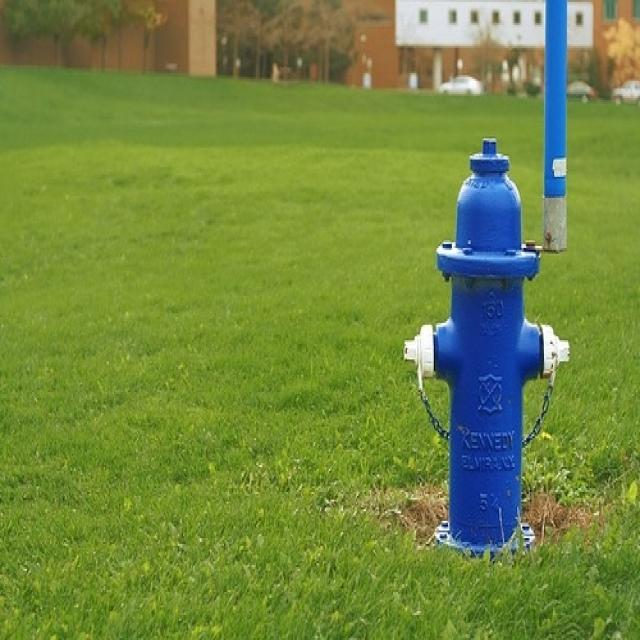fire_hydrant: (400, 111, 591, 582)
